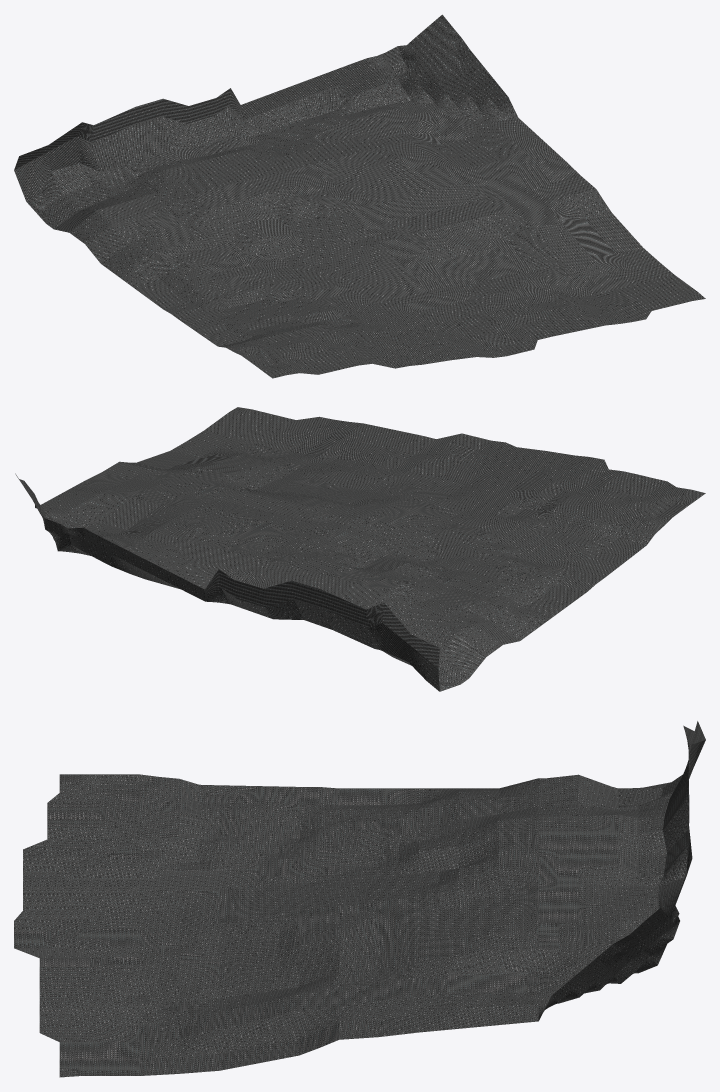
The model's file is probuilderTerrain.obj.
The picture shows the model from 3 angles, top to bottom: view 1: azimuth 30°, elevation 25°; view 2: azimuth 150°, elevation 25°; view 3: azimuth 270°, elevation 25°; orthographic projection. The views are drawn at different scales.
Parts seen in each view (by area): view 1: probuilderTerrain; view 2: probuilderTerrain; view 3: probuilderTerrain.
Part boxes in pixels (<box>): probuilderTerrain: <box>14,14,705,378</box>; probuilderTerrain: <box>15,407,705,691</box>; probuilderTerrain: <box>14,721,705,1077</box>.
Bounding box in the file's own units: 810 × 210 × 867.
1 material, 1 textured.
